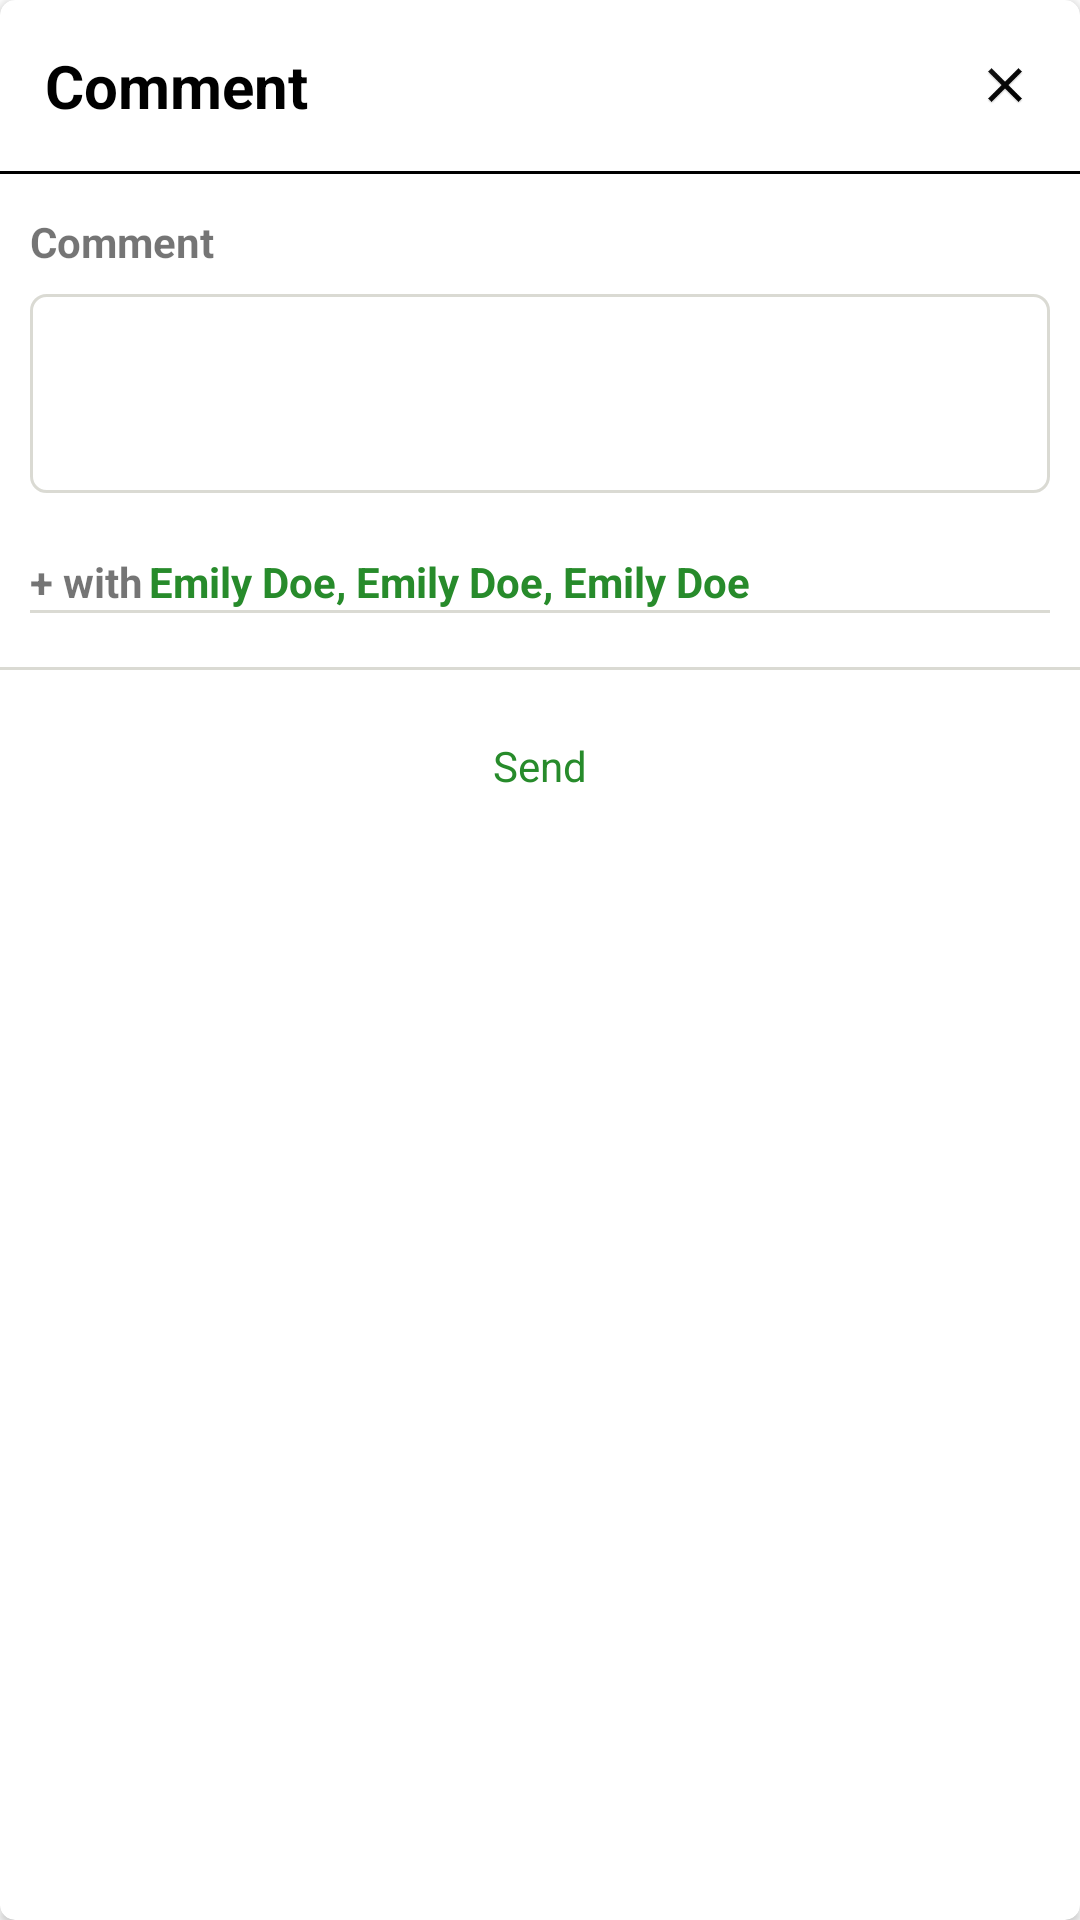

Icon click points for this 1080px x 1920px phone screenshot, format (x=x, y=y):
close: (x=1005, y=85)
